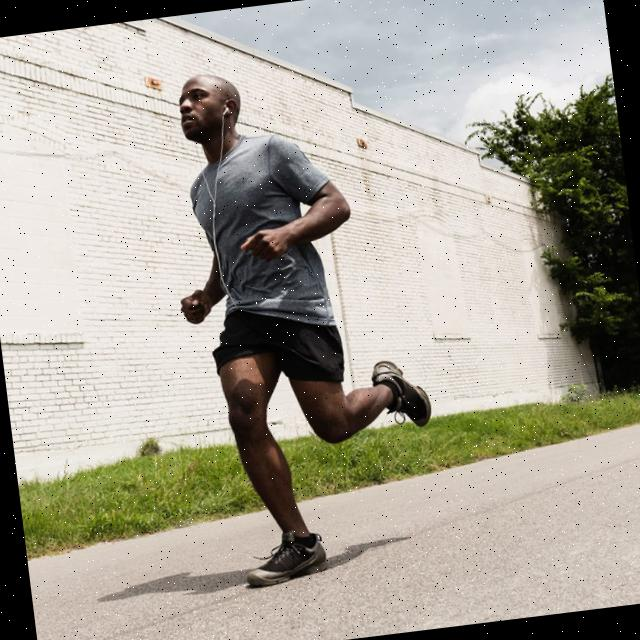Person: (150, 52, 450, 590)
